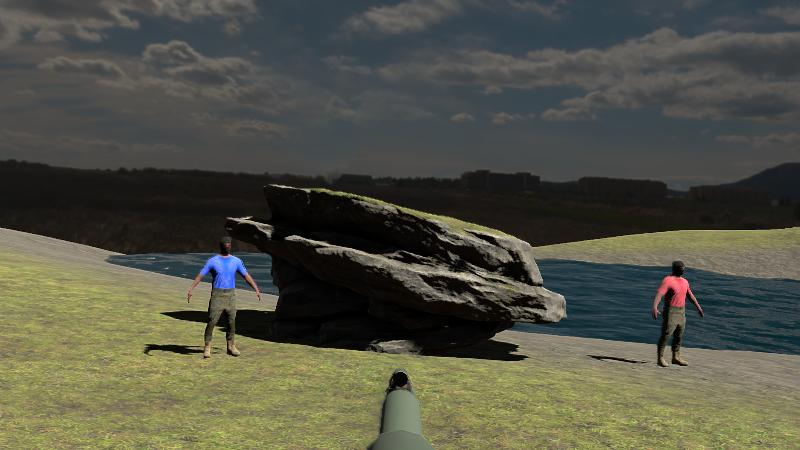Human: (187, 234, 259, 359), (653, 259, 703, 368)
